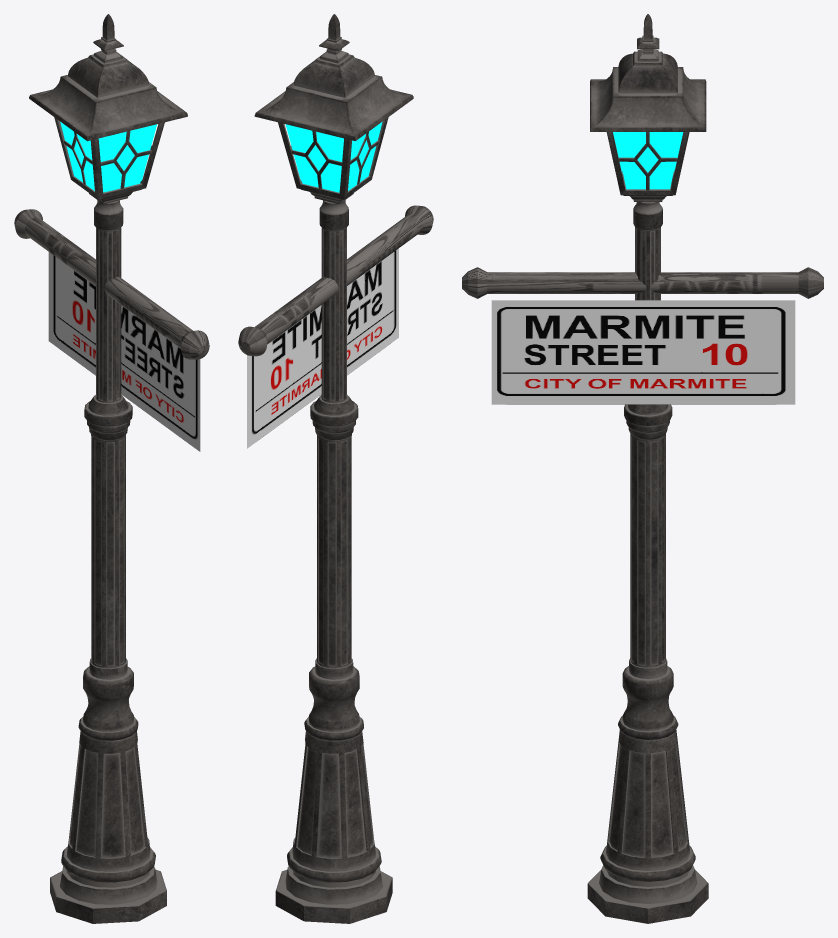
Rendered from streetName.glb.
The picture shows the model from 3 angles, left to right: view 1: azimuth 30°, elevation 25°; view 2: azimuth 150°, elevation 25°; view 3: azimuth 270°, elevation 25°; orthographic projection.
Visible parts, largest first — view 1: Lamp, Plane.022, glass; view 2: Lamp, Plane.022, glass; view 3: Lamp, Plane.022, glass.
Boxes of the visible parts, box(x1,y1,x2,y2) form: Lamp: box(14, 14, 209, 923); Plane.022: box(48, 252, 200, 451); glass: box(60, 121, 156, 192); Lamp: box(238, 14, 433, 923); Plane.022: box(247, 248, 398, 448); glass: box(285, 121, 382, 192); Lamp: box(462, 14, 823, 923); Plane.022: box(491, 300, 795, 404); glass: box(613, 132, 683, 189).
Bounding box in the file's own units: 0.652 × 5.26 × 1.95.
Materials: 3 (2 with a texture image).
